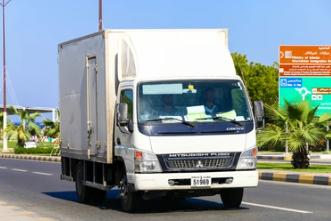vehicle: (58, 28, 263, 212)
